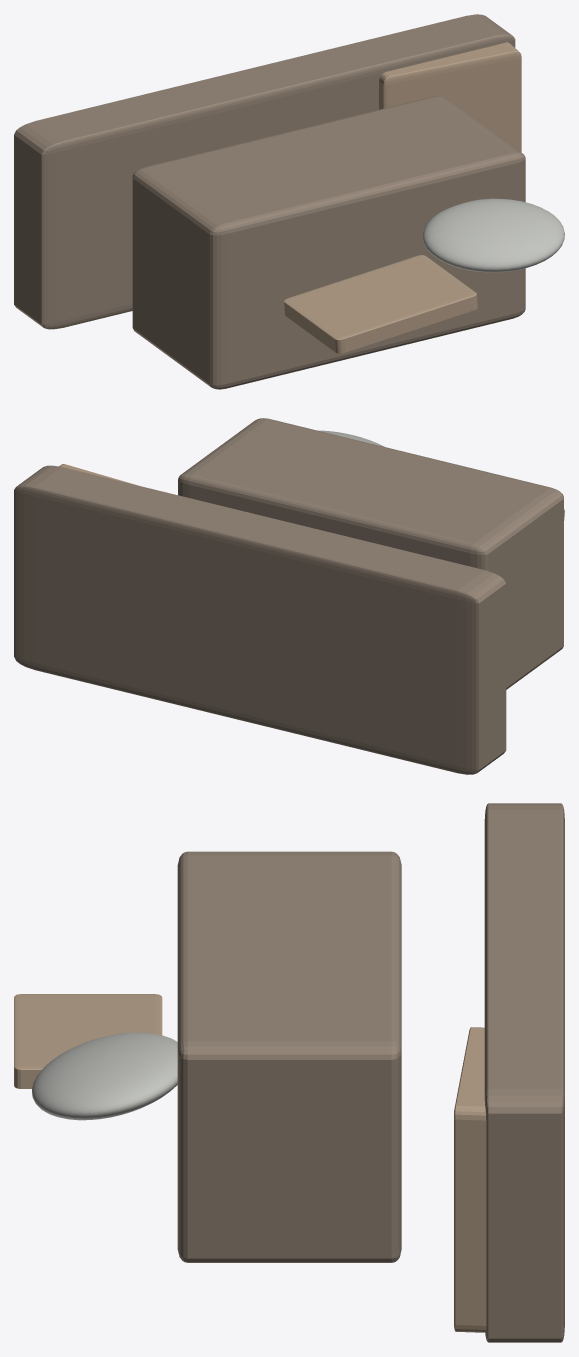
Rendered from d-u21-dominion-command-vehicle-lod2.glb.
3 views of the same model, one above another, from view 1: azimuth 30°, elevation 25°; view 2: azimuth 150°, elevation 25°; view 3: azimuth 270°, elevation 25° (orthographic). The views are drawn at different scales.
Visible parts, largest first — view 1: command_body, chassis_lower, command_array_array, command_dish, chassis_nose; view 2: chassis_lower, command_body; view 3: command_body, chassis_lower, command_dish, chassis_nose, command_array_array.
Part boxes in pixels (<box>): command_body: <box>132,96,525,389</box>; chassis_lower: <box>14,14,515,329</box>; command_array_array: <box>283,255,477,353</box>; command_dish: <box>423,198,564,272</box>; chassis_nose: <box>379,42,521,152</box>; chassis_lower: <box>14,465,506,774</box>; command_body: <box>178,418,563,689</box>; command_body: <box>177,851,401,1262</box>; chassis_lower: <box>484,803,564,1342</box>; command_dish: <box>32,1032,177,1120</box>; chassis_nose: <box>454,1027,486,1332</box>; command_array_array: <box>14,994,162,1088</box>.
Size of what is drawn, in the model's own units: 6.92 by 2.61 by 5.26.
